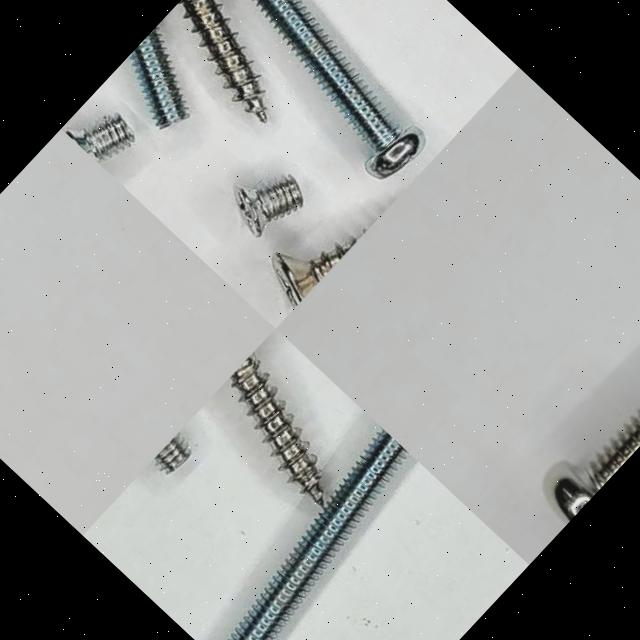Screw: (229, 430, 408, 640), (255, 0, 425, 180), (229, 351, 323, 507), (178, 0, 265, 124), (543, 413, 640, 524), (273, 236, 362, 309), (128, 27, 188, 129), (234, 175, 303, 238), (65, 113, 135, 163), (152, 434, 191, 475)
